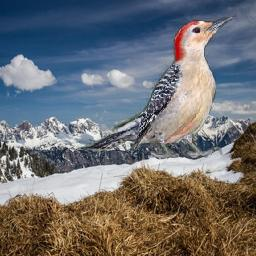Woodpecker: (77, 12, 237, 158)
